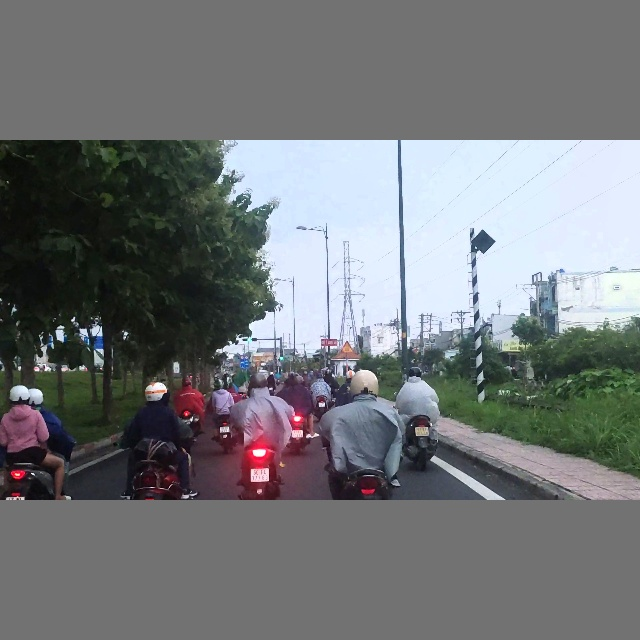W.210: (341, 340, 354, 353)
